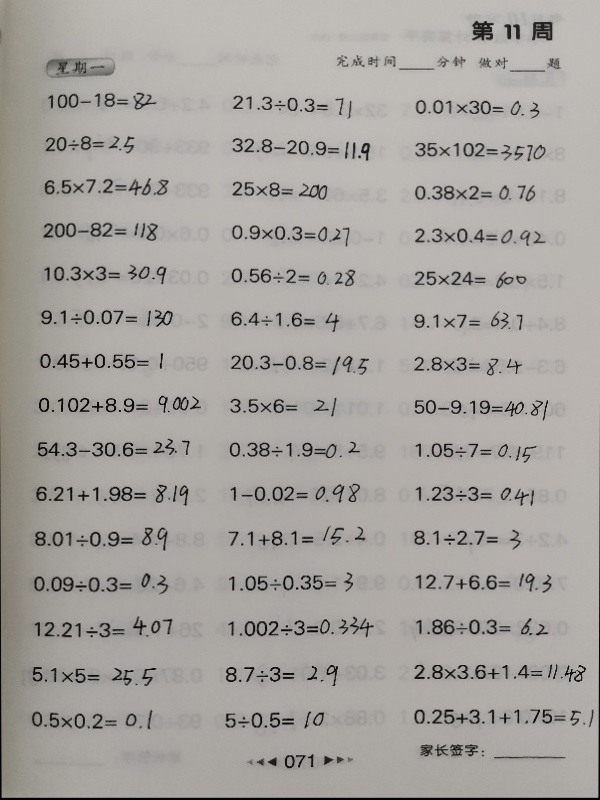equation: (406, 702, 596, 733), (407, 658, 589, 688), (31, 477, 192, 506), (224, 612, 376, 641), (31, 523, 172, 554), (30, 612, 175, 641), (29, 567, 172, 596), (35, 392, 205, 416), (33, 435, 194, 460), (411, 395, 553, 423), (226, 350, 372, 377), (228, 136, 374, 163), (223, 521, 367, 548), (411, 567, 554, 594), (227, 479, 363, 506), (225, 568, 357, 595), (412, 615, 553, 640), (410, 438, 539, 465), (40, 259, 169, 286), (37, 305, 176, 330), (28, 706, 156, 733), (228, 89, 356, 116), (225, 437, 363, 462), (28, 663, 160, 689), (411, 138, 548, 163), (227, 221, 353, 248), (222, 661, 342, 689), (226, 264, 358, 289), (41, 175, 172, 200), (411, 94, 542, 119), (39, 217, 160, 244), (411, 181, 540, 206), (410, 305, 527, 332), (411, 224, 548, 247), (226, 307, 342, 334), (411, 481, 536, 506), (410, 526, 525, 553), (34, 348, 165, 371), (412, 267, 531, 292), (228, 393, 342, 419), (44, 88, 160, 113), (410, 352, 525, 377), (222, 708, 328, 733), (228, 177, 332, 202), (42, 132, 137, 157)
